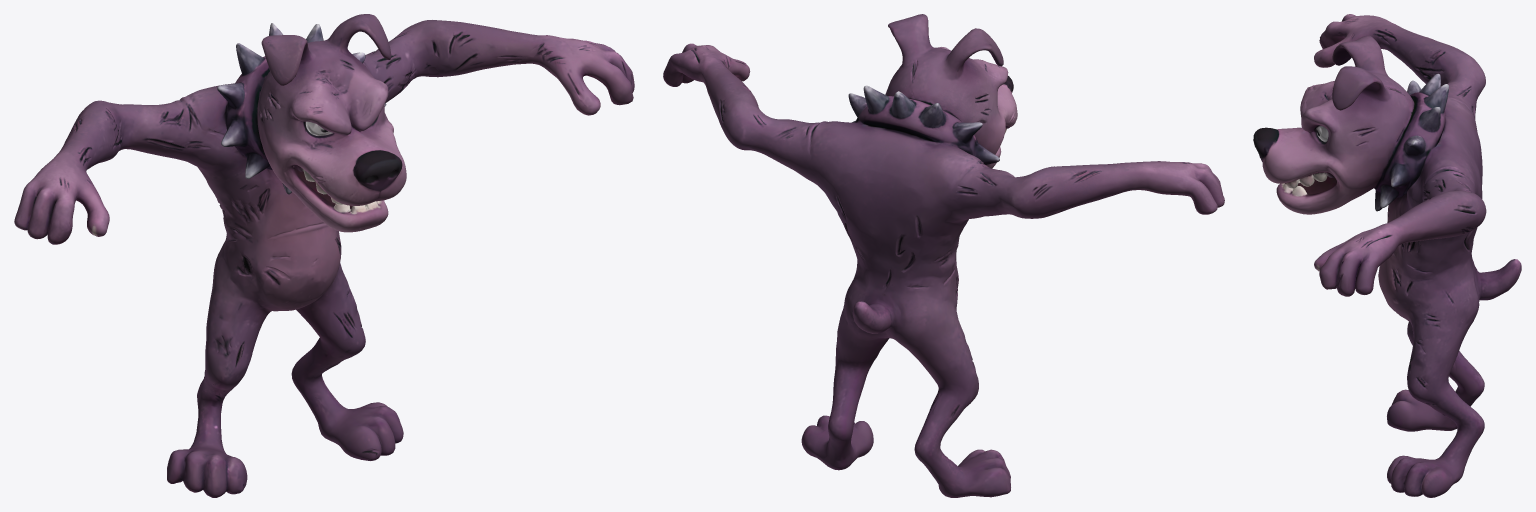
The model's file is mr_fetch.glb.
3 renders of one model, left to right at view 1: azimuth 30°, elevation 25°; view 2: azimuth 150°, elevation 25°; view 3: azimuth 270°, elevation 25°, orthographic. The views are drawn at different scales.
Parts seen in each view (by area): view 1: mr_fetch; view 2: mr_fetch; view 3: mr_fetch.
Boxes of the visible parts, x1,y1,x2,y2 form: mr_fetch: [14, 14, 634, 497]; mr_fetch: [663, 14, 1224, 497]; mr_fetch: [1253, 14, 1521, 497].
Size of the model in its own units: 3.28 by 2.4 by 1.45.
1 material, 1 textured.
